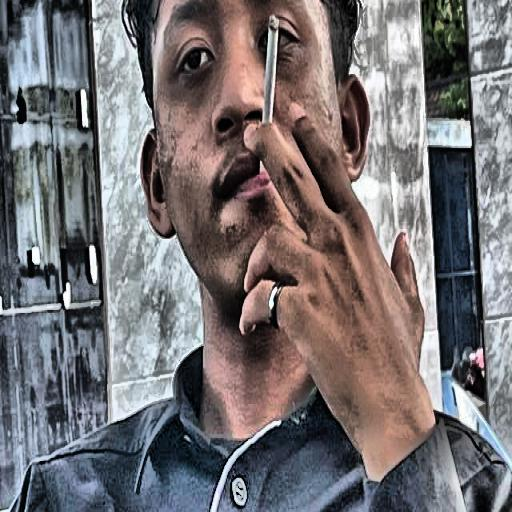Asbak: (262, 14, 278, 122)
Merokok: (140, 0, 434, 479)
